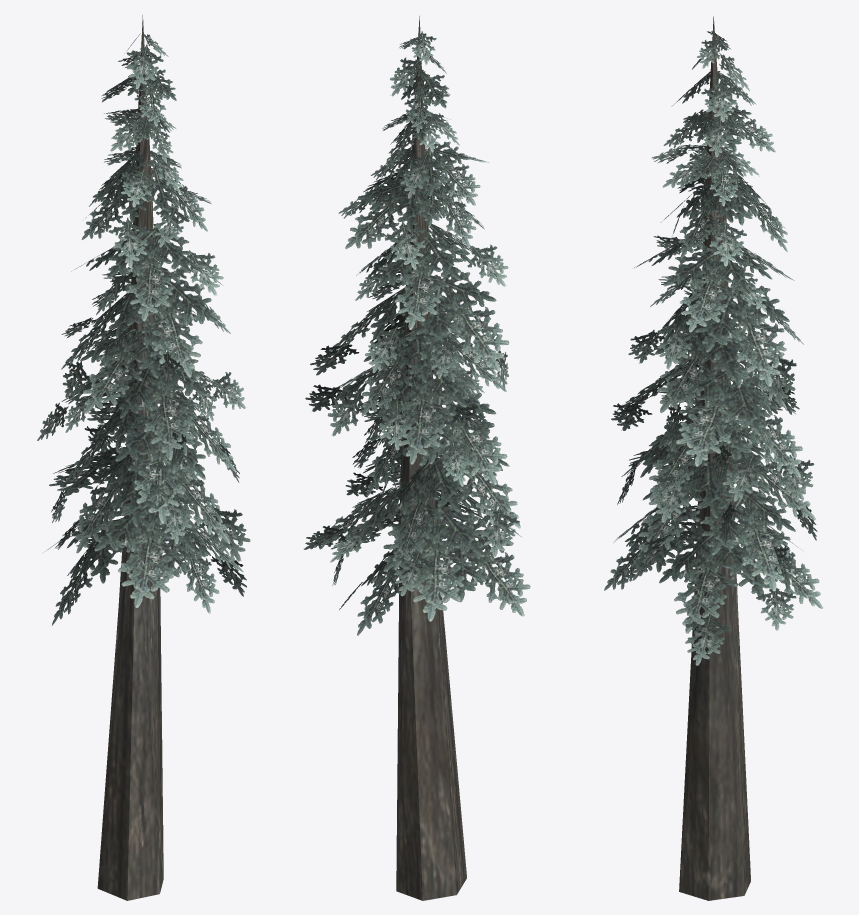
The model's file is mp_tree_pine_snow_small.obj.
The picture shows the model from 3 angles, left to right: view 1: azimuth 30°, elevation 25°; view 2: azimuth 150°, elevation 25°; view 3: azimuth 270°, elevation 25°; orthographic projection.
Visible parts, largest first — view 1: tree; view 2: tree; view 3: tree.
Boxes of the visible parts, box(x1,y1,x2,y2) form: tree: box(37, 15, 250, 900); tree: box(304, 16, 530, 900); tree: box(604, 16, 822, 900).
Size of the model in its own units: 214 by 784 by 209.
